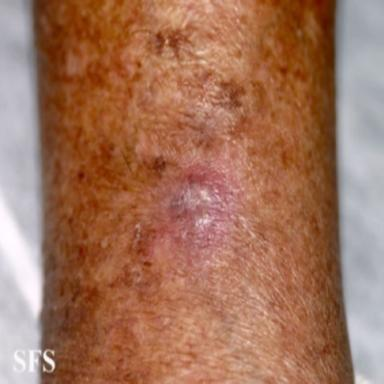basal-cell-carcinoma: (171, 179, 224, 251)
